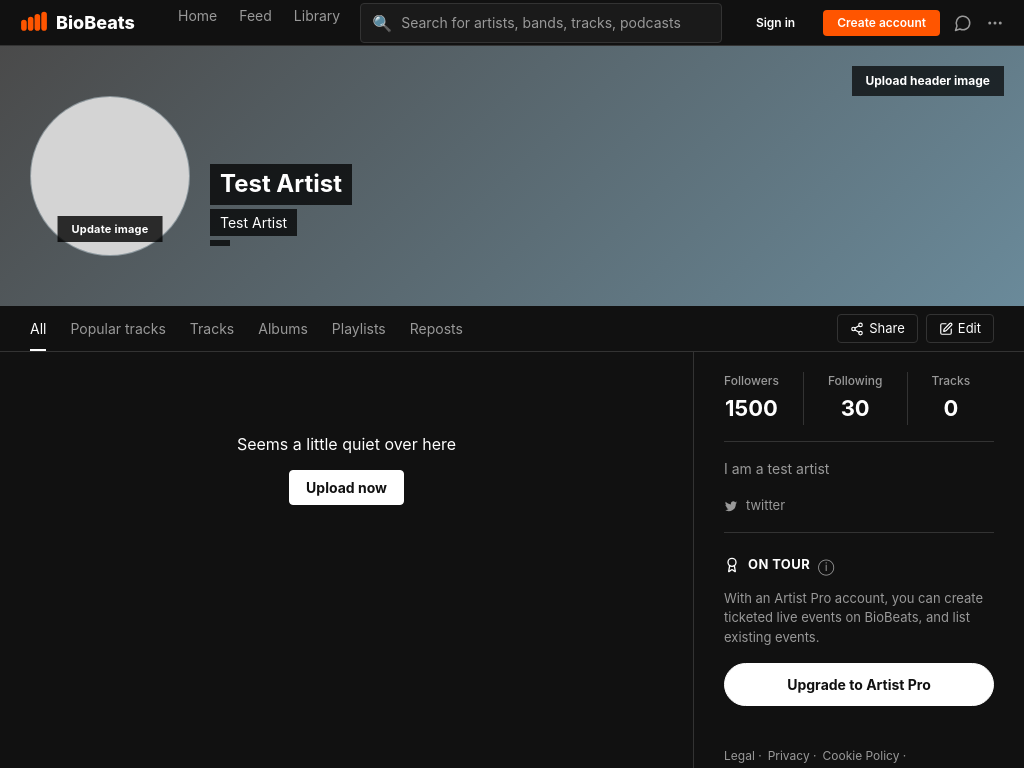
Test case: ProfilePage Tests › edit button opens edit modal
The width and height of the screenshot is (1024, 768).
Step 1. Click the button with test id "profile-edit-button" → (960,329), box [926, 314, 994, 343]
(page scrolled)
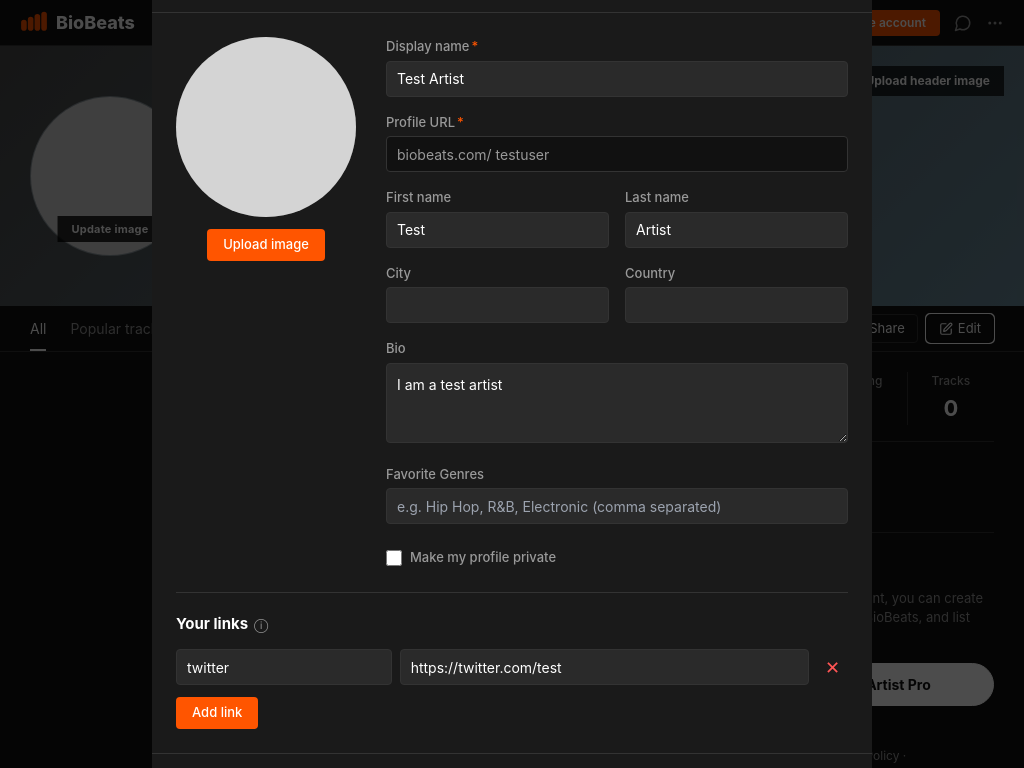
Expected: the element with test id "edit-profile-modal" is shown
